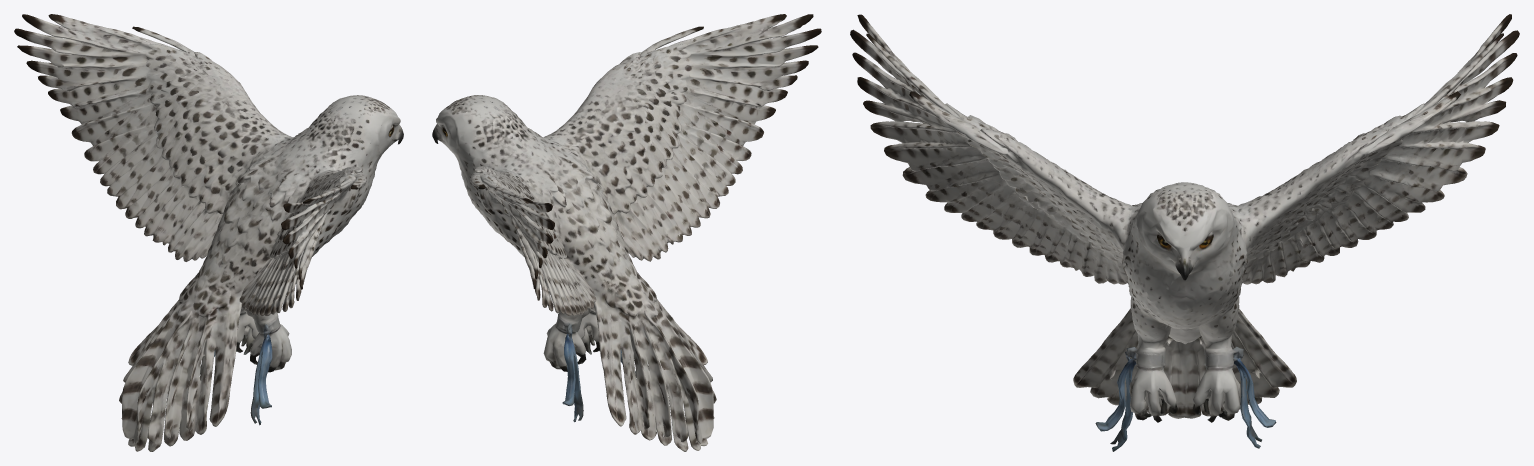
The model's file is owl-tripo.glb.
3 views of the same model, side by side, from view 1: azimuth 30°, elevation 25°; view 2: azimuth 150°, elevation 25°; view 3: azimuth 270°, elevation 25° (orthographic). The views are drawn at different scales.
Parts seen in each view (by area): view 1: tripo_node_e1fa7b02-c708-4e74-a2e7-830ac7a14f21; view 2: tripo_node_e1fa7b02-c708-4e74-a2e7-830ac7a14f21; view 3: tripo_node_e1fa7b02-c708-4e74-a2e7-830ac7a14f21.
Boxes of the visible parts, x1,y1,x2,y2 form: tripo_node_e1fa7b02-c708-4e74-a2e7-830ac7a14f21: (14,14,403,451); tripo_node_e1fa7b02-c708-4e74-a2e7-830ac7a14f21: (432,14,821,451); tripo_node_e1fa7b02-c708-4e74-a2e7-830ac7a14f21: (850,14,1519,451).
Bounding box in the file's own units: 0.5894 × 0.6871 × 1.
1 material, 1 textured.
